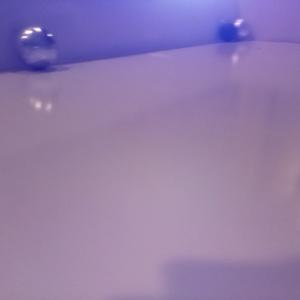alive_ball: (16, 25, 57, 68), (233, 18, 251, 39)
dead_ball: (218, 23, 237, 42)
